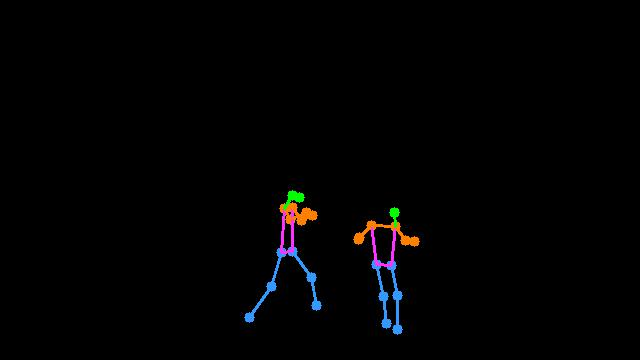normal: (347, 182, 424, 344)
